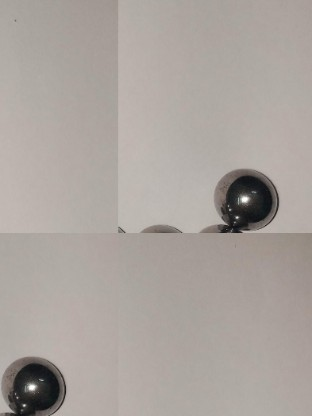ironball: (212, 164, 280, 229), (2, 353, 66, 414)
